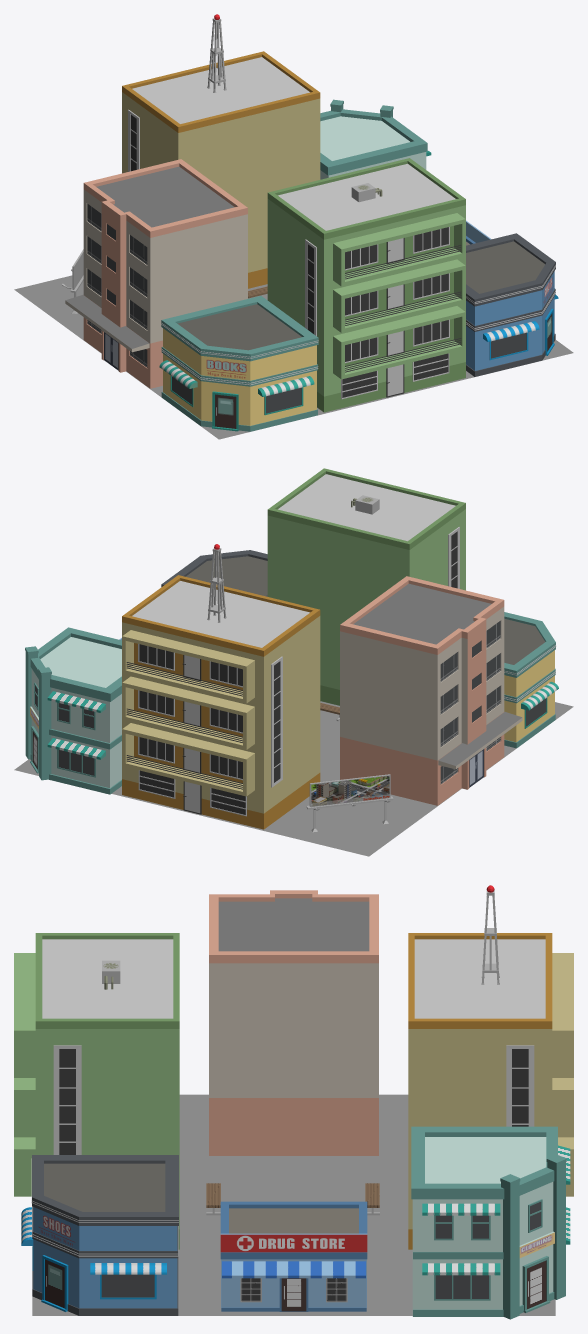
The model's file is shops.gltf.
3 renders of one model, top to bottom at view 1: azimuth 30°, elevation 25°; view 2: azimuth 150°, elevation 25°; view 3: azimuth 270°, elevation 25°, orthographic. The views are drawn at different scales.
Visible parts, largest first — view 1: Building_Residential_color01_Cube.013 (×2), Building Sky_small_color01_Cube.028, Building_Books Shop_Cube.018, Building_Shoes Shop_Cube.015, Building_Clothing_Cube.004, Road Concrete Tile_Plane.010, Props_Roof Antenna_Cylinder.021; view 2: Building_Residential_color01_Cube.013 (×2), Building Sky_small_color01_Cube.028, Building_Clothing_Cube.004, Road Concrete Tile_Plane.010, Building_Books Shop_Cube.018, Building_Shoes Shop_Cube.015, Props_BillBoard_large_Cube.528, Props_Roof Antenna_Cylinder.021; view 3: Building_Residential_color01_Cube.013 (×2), Building Sky_small_color01_Cube.028, Building_Clothing_Cube.004, Road Concrete Tile_Plane.010, Building_Shoes Shop_Cube.015, Building_Drug Store_Cube.008, Props_Roof Antenna_Cylinder.021.
Part boxes in pixels (x1,y1,x2,y2): Building_Residential_color01_Cube.013 (×2): [122, 51, 465, 412]; Building Sky_small_color01_Cube.028: [65, 159, 247, 388]; Building_Books Shop_Cube.018: [159, 296, 318, 431]; Building_Shoes Shop_Cube.015: [466, 233, 558, 376]; Building_Clothing_Cube.004: [320, 99, 431, 179]; Road Concrete Tile_Plane.010: [14, 275, 573, 439]; Props_Roof Antenna_Cylinder.021: [207, 14, 226, 92]; Building_Residential_color01_Cube.013 (×2): [122, 468, 465, 829]; Building Sky_small_color01_Cube.028: [340, 576, 522, 805]; Building_Clothing_Cube.004: [25, 627, 121, 794]; Road Concrete Tile_Plane.010: [14, 701, 573, 856]; Building_Books Shop_Cube.018: [504, 612, 558, 748]; Building_Shoes Shop_Cube.015: [161, 550, 267, 596]; Props_BillBoard_large_Cube.528: [306, 774, 393, 832]; Props_Roof Antenna_Cylinder.021: [207, 544, 226, 622]; Building_Residential_color01_Cube.013 (×2): [14, 933, 573, 1249]; Building Sky_small_color01_Cube.028: [209, 890, 378, 1155]; Building_Clothing_Cube.004: [411, 1126, 570, 1319]; Road Concrete Tile_Plane.010: [32, 1094, 555, 1315]; Building_Shoes Shop_Cube.015: [21, 1155, 178, 1315]; Building_Drug Store_Cube.008: [220, 1201, 367, 1311]; Props_Roof Antenna_Cylinder.021: [481, 885, 499, 984].
Bounding box in the file's own units: 43.15 × 26.95 × 42.78.
12 materials, 12 textured.
